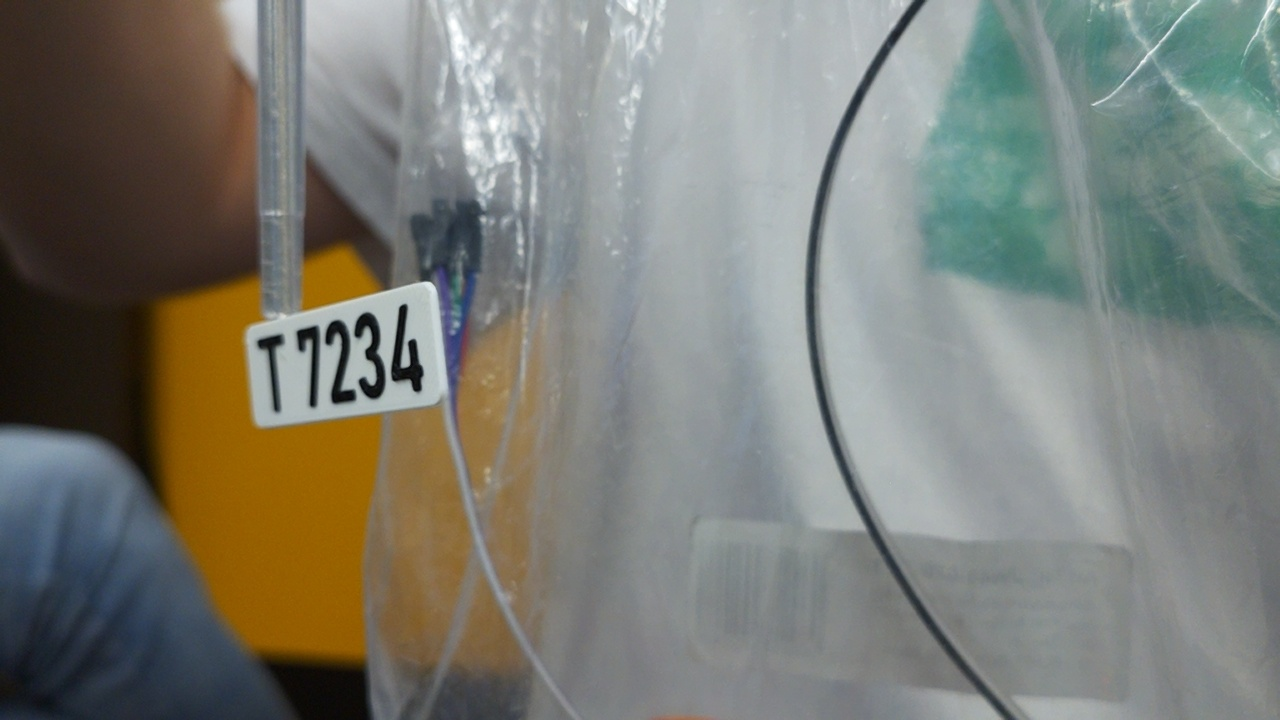license_plate: (241, 279, 450, 431)
